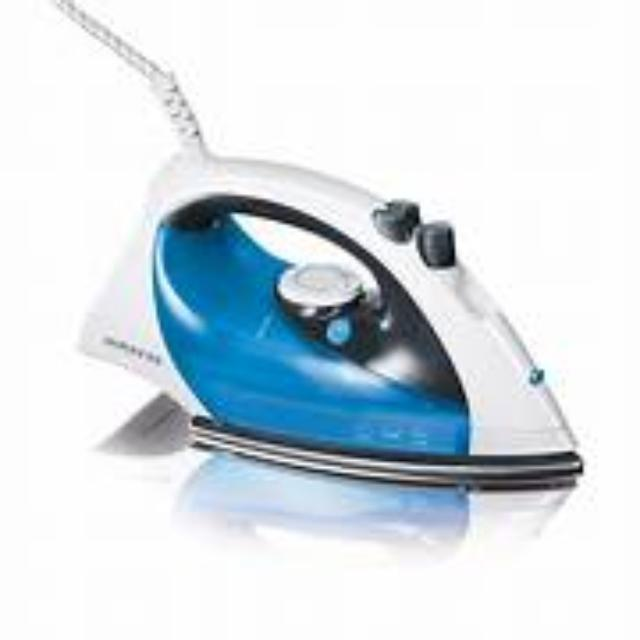Clothes-Iron: (70, 143, 602, 535)
